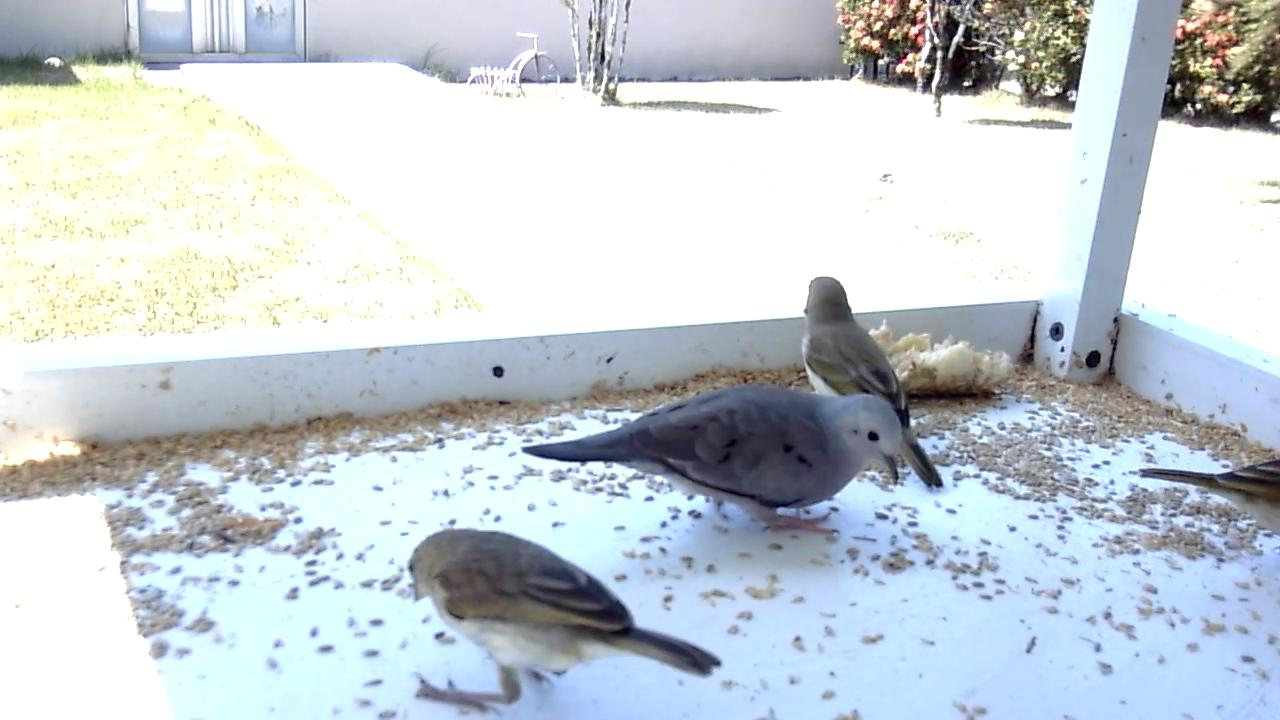canario_do_amazonas: (403, 523, 731, 720), (803, 273, 948, 495), (1131, 455, 1280, 544)
rolinha: (516, 384, 907, 539)
